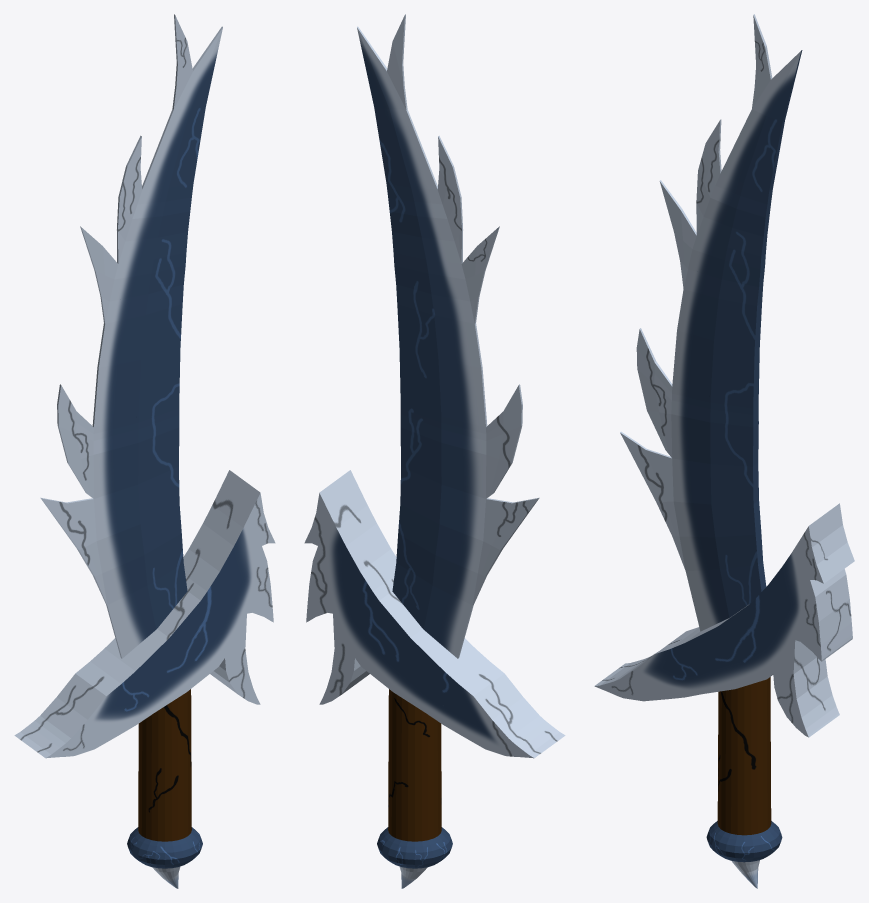
File: Ostrze_bestii.fbx
The picture shows the model from 3 angles, left to right: view 1: azimuth 30°, elevation 25°; view 2: azimuth 150°, elevation 25°; view 3: azimuth 330°, elevation 25°; orthographic projection.
Parts seen in each view (by area): view 1: Cube, Cube.001, Cylinder; view 2: Cube, Cube.001, Cylinder; view 3: Cube, Cube.001, Cylinder.
Boxes of the visible parts, x1=… form: Cube: x1=40, y1=14, x2=222, y2=658; Cube.001: x1=14, y1=470, x2=275, y2=758; Cylinder: x1=127, y1=689, x2=202, y2=888; Cube: x1=357, y1=14, x2=539, y2=658; Cube.001: x1=304, y1=470, x2=565, y2=758; Cylinder: x1=377, y1=689, x2=452, y2=888; Cube: x1=620, y1=14, x2=802, y2=631; Cube.001: x1=594, y1=503, x2=854, y2=737; Cylinder: x1=706, y1=677, x2=782, y2=888.
Size of the model in its own units: 107 by 390 by 30.75.
3 materials, 3 textured.
